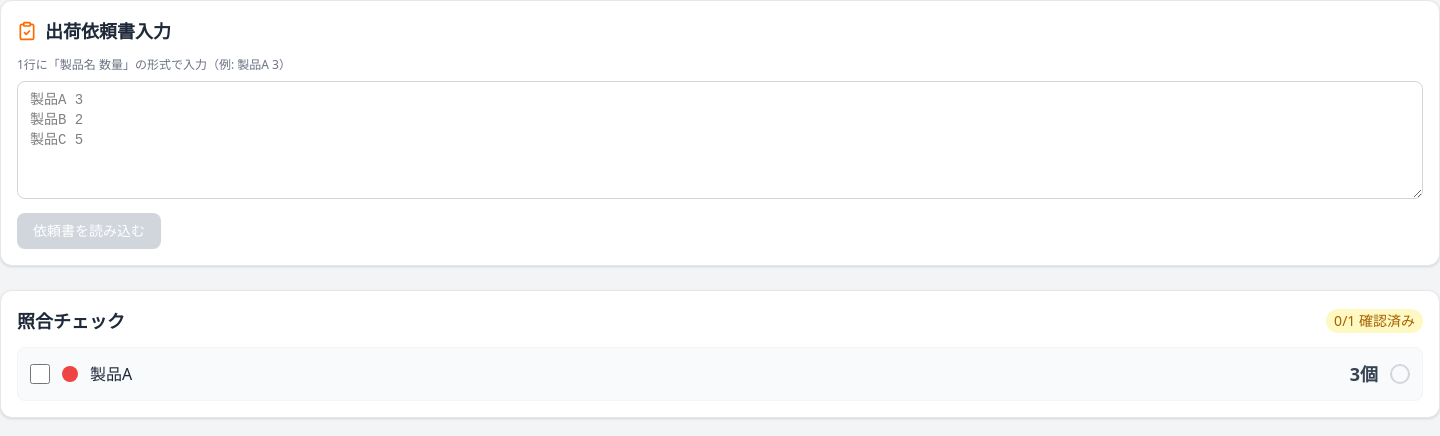
Test case: ShippingVerification › 依頼書の数量と検出数が一致するとき ✓ が表示される
Type "製品A 3" into the text box at (720, 140), box [17, 81, 1423, 199]
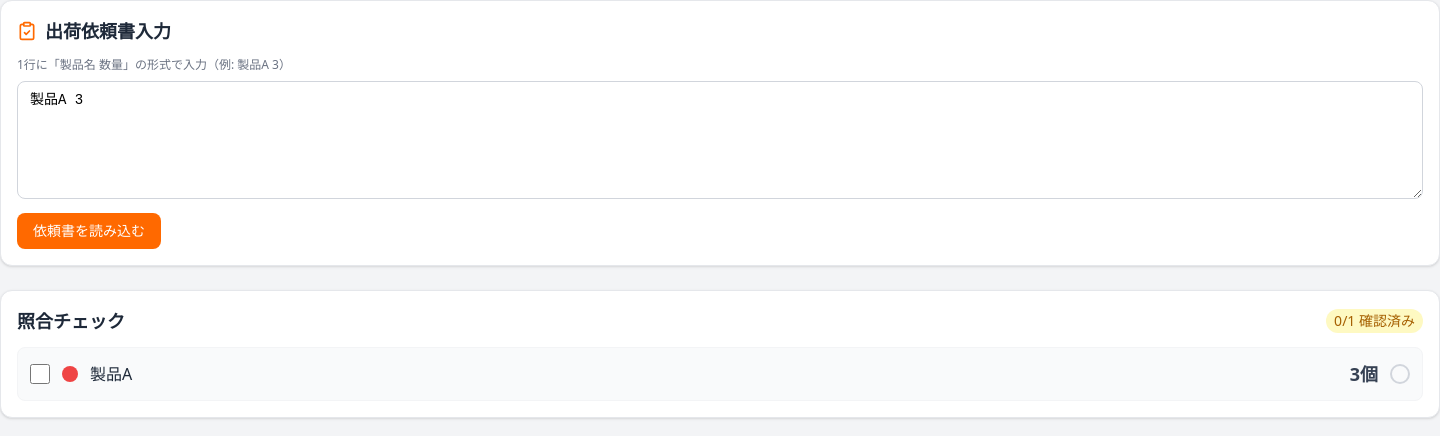
Click the button "依頼書を読み込む" at (89, 231), box [17, 213, 161, 249]
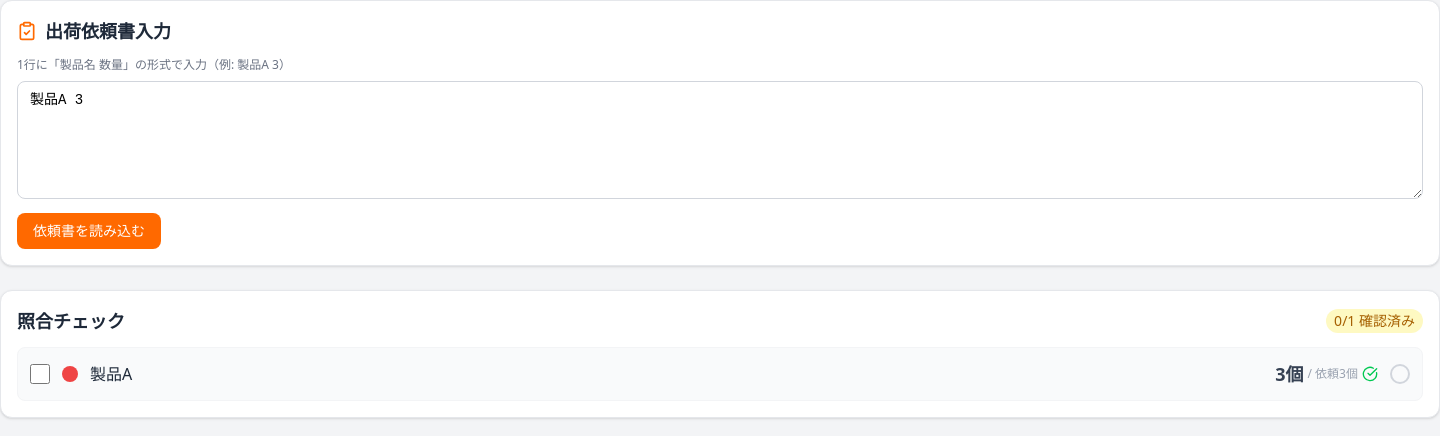
Expected: the text "依頼3個" is shown, [1308, 366, 1358, 382]
